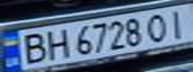2: (106, 17, 130, 51)
6: (72, 22, 93, 56)
7: (90, 20, 112, 53)
8: (124, 15, 148, 46)
B: (15, 30, 51, 65)
H: (42, 26, 72, 61)
I: (163, 7, 193, 38)
O: (142, 11, 172, 43)
